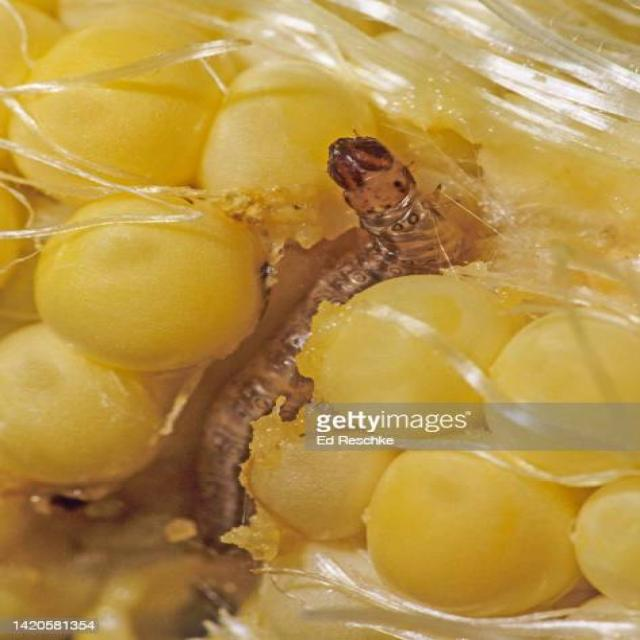cornborer-Larva-: (182, 128, 469, 566)
